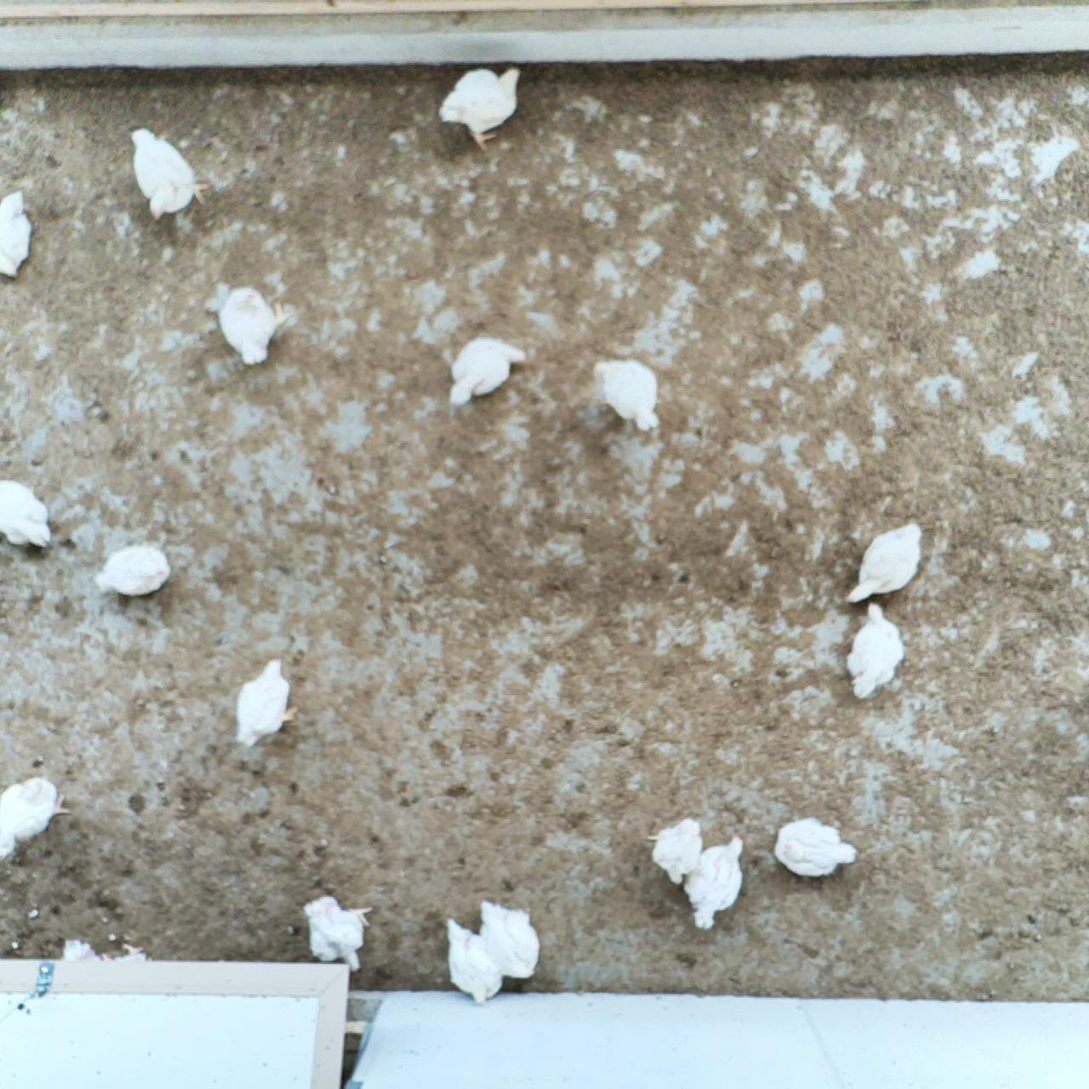chicken: (120, 124, 213, 230), (434, 64, 528, 158), (840, 519, 928, 610), (679, 831, 751, 935), (586, 349, 667, 438), (448, 330, 535, 412), (843, 597, 909, 703), (214, 279, 287, 371), (298, 891, 377, 976), (231, 653, 300, 750), (475, 893, 546, 986), (771, 811, 860, 882), (0, 771, 70, 859), (442, 915, 506, 1008), (92, 536, 176, 604), (642, 814, 704, 893), (0, 476, 56, 555), (0, 183, 38, 288)
